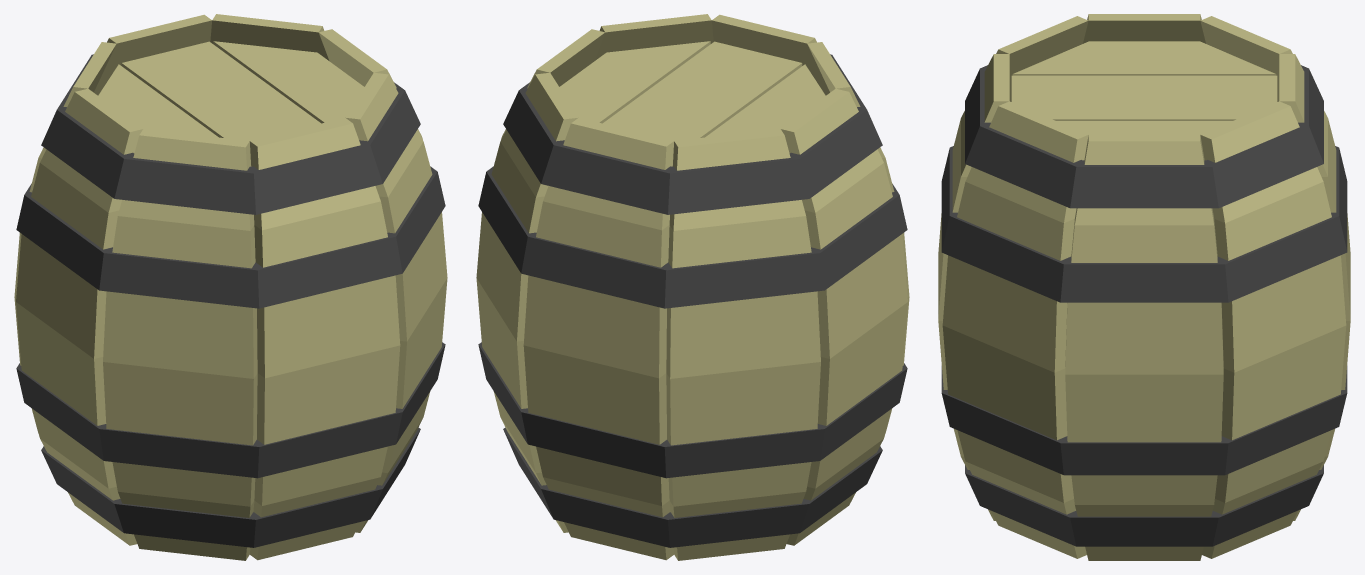
Rendered from Barrel base.fbx.
3 views of the same model, side by side, from view 1: azimuth 30°, elevation 25°; view 2: azimuth 150°, elevation 25°; view 3: azimuth 270°, elevation 25° (orthographic).
Parts seen in each view (by area): view 1: Cube.219, Cube.218; view 2: Cube.219, Cube.218; view 3: Cube.219, Cube.218.
Boxes of the visible parts, box(x1,y1,x2,y2) form: Cube.219: box(14, 14, 447, 560); Cube.218: box(16, 54, 445, 547); Cube.219: box(476, 14, 909, 560); Cube.218: box(478, 54, 907, 547); Cube.219: box(938, 14, 1350, 560); Cube.218: box(941, 65, 1347, 546).
Bounding box in the file's own units: 1.34 × 1.5 × 1.34.
